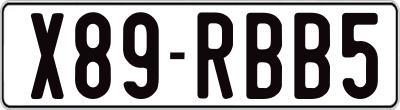5: (339, 11, 380, 97)
8: (75, 10, 116, 100)
9: (123, 12, 160, 101)
B: (291, 10, 329, 102), (244, 11, 280, 103)
R: (196, 11, 234, 100)
X: (29, 12, 67, 98)
